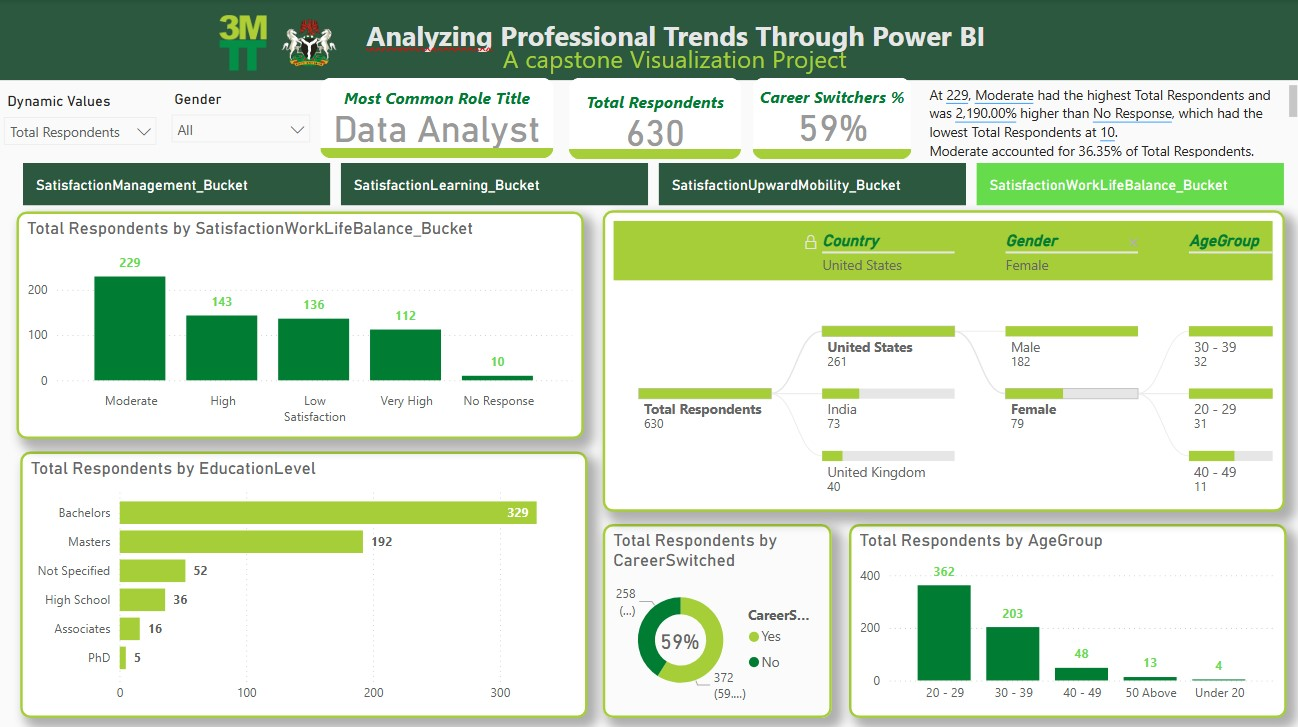

Layout of this report page (visuals, bound fields, positions):
{"tool":"powerbi","page":{"name":"Page 1","canvas":[1280,720],"ordinal":0},"visuals":[{"type":"shape","box":[0,0,1280,80],"z":0},{"type":"barChart","fields":{"Y":["_Measures.Total Respondents"],"Category":["Data_Professional_Survey.EducationLevel"]},"box":[20.9,444.2,557.1,261.4],"z":1000},{"type":"columnChart","fields":{"Y":["_Measures.Total Respondents"],"Category":["Data_Professional_Survey.AgeGroup"]},"box":[834.4,515.3,429.5,190.2],"z":2000},{"type":"columnChart","fields":{"Category":["Data_Professional_Survey.SatisfactionWorkLifeBalance_Bucket"],"Y":["_Measures.Total Respondents"]},"box":[17.2,208.6,557.1,223.3],"z":3000},{"type":"cardVisual","fields":{"Data":["_Measures.Total Respondents"]},"box":[555.1,77.1,179.1,81],"z":4000},{"type":"cardVisual","fields":{"Data":["_Measures.Most Common Role Title"]},"box":[310.9,77.1,239.3,84.7],"z":5000},{"type":"donutChart","fields":{"Y":["_Measures.Total Respondents"],"Category":["Data_Professional_Survey.CareerSwitched"]},"box":[593,515.1,225.1,190.4],"z":6000},{"type":"slicer","fields":{"Values":["Dynamic Values.Dynamic Values"]},"box":[0,87.1,159.5,65],"z":7000},{"type":"textbox","box":[304,0,720,64],"z":8000},{"type":"textbox","box":[489.1,41.8,393.9,37.5],"z":9000},{"type":"decompositionTreeVisual","fields":{"Analyze":["_Measures.Total Respondents"],"ExplainBy":["Data_Professional_Survey.Country","Data_Professional_Survey.Gender","Data_Professional_Survey.AgeGroup"]},"box":[593,207.8,669.4,295.8],"z":10000},{"type":"card","fields":{"Values":["_Measures.Career Switchers %"]},"box":[643.5,613.2,50.5,34.6],"z":11000},{"type":"cardVisual","fields":{"Data":["_Measures.Career Switchers %"]},"box":[735.5,77.1,166.9,81],"z":12000},{"type":"advancedSlicerVisual","fields":{"Values":["Dynamic x-axis.Dynamic x-axis"]},"box":[23.3,160.7,1239.3,42.9],"z":13000},{"type":"slicer","fields":{"Values":["Data_Professional_Survey.Gender"]},"box":[158.3,84.7,157.1,74.8],"z":14000},{"type":"textbox","box":[908,79.8,371.8,81],"z":15000},{"type":"image","box":[272,10.6,64,64],"z":16000},{"type":"image","box":[176,10.6,128,64],"z":17000}]}

Visuals, with their boxes in screenshot pixels (x1, y1, x2, y2), scaled from the page's 1280x720 canvas onto the 1298x727 screenshot:
shape: bbox=(0, 0, 1297, 81)
barChart - _Measures.Total Respondents x Data_Professional_Survey.EducationLevel: bbox=(21, 449, 586, 712)
columnChart - _Measures.Total Respondents x Data_Professional_Survey.AgeGroup: bbox=(846, 520, 1282, 712)
columnChart - Data_Professional_Survey.SatisfactionWorkLifeBalance_Bucket x _Measures.Total Respondents: bbox=(17, 211, 582, 436)
cardVisual - _Measures.Total Respondents: bbox=(563, 78, 745, 160)
cardVisual - _Measures.Most Common Role Title: bbox=(315, 78, 558, 163)
donutChart - _Measures.Total Respondents x Data_Professional_Survey.CareerSwitched: bbox=(601, 520, 830, 712)
slicer - Dynamic Values.Dynamic Values: bbox=(0, 88, 162, 154)
textbox: bbox=(308, 0, 1038, 65)
textbox: bbox=(496, 42, 895, 80)
decompositionTreeVisual - _Measures.Total Respondents x Data_Professional_Survey.Country: bbox=(601, 210, 1280, 508)
card - _Measures.Career Switchers %: bbox=(653, 619, 704, 654)
cardVisual - _Measures.Career Switchers %: bbox=(746, 78, 915, 160)
advancedSlicerVisual - Dynamic x-axis.Dynamic x-axis: bbox=(24, 162, 1280, 206)
slicer - Data_Professional_Survey.Gender: bbox=(161, 86, 320, 161)
textbox: bbox=(921, 81, 1297, 162)
image: bbox=(276, 11, 341, 75)
image: bbox=(178, 11, 308, 75)
